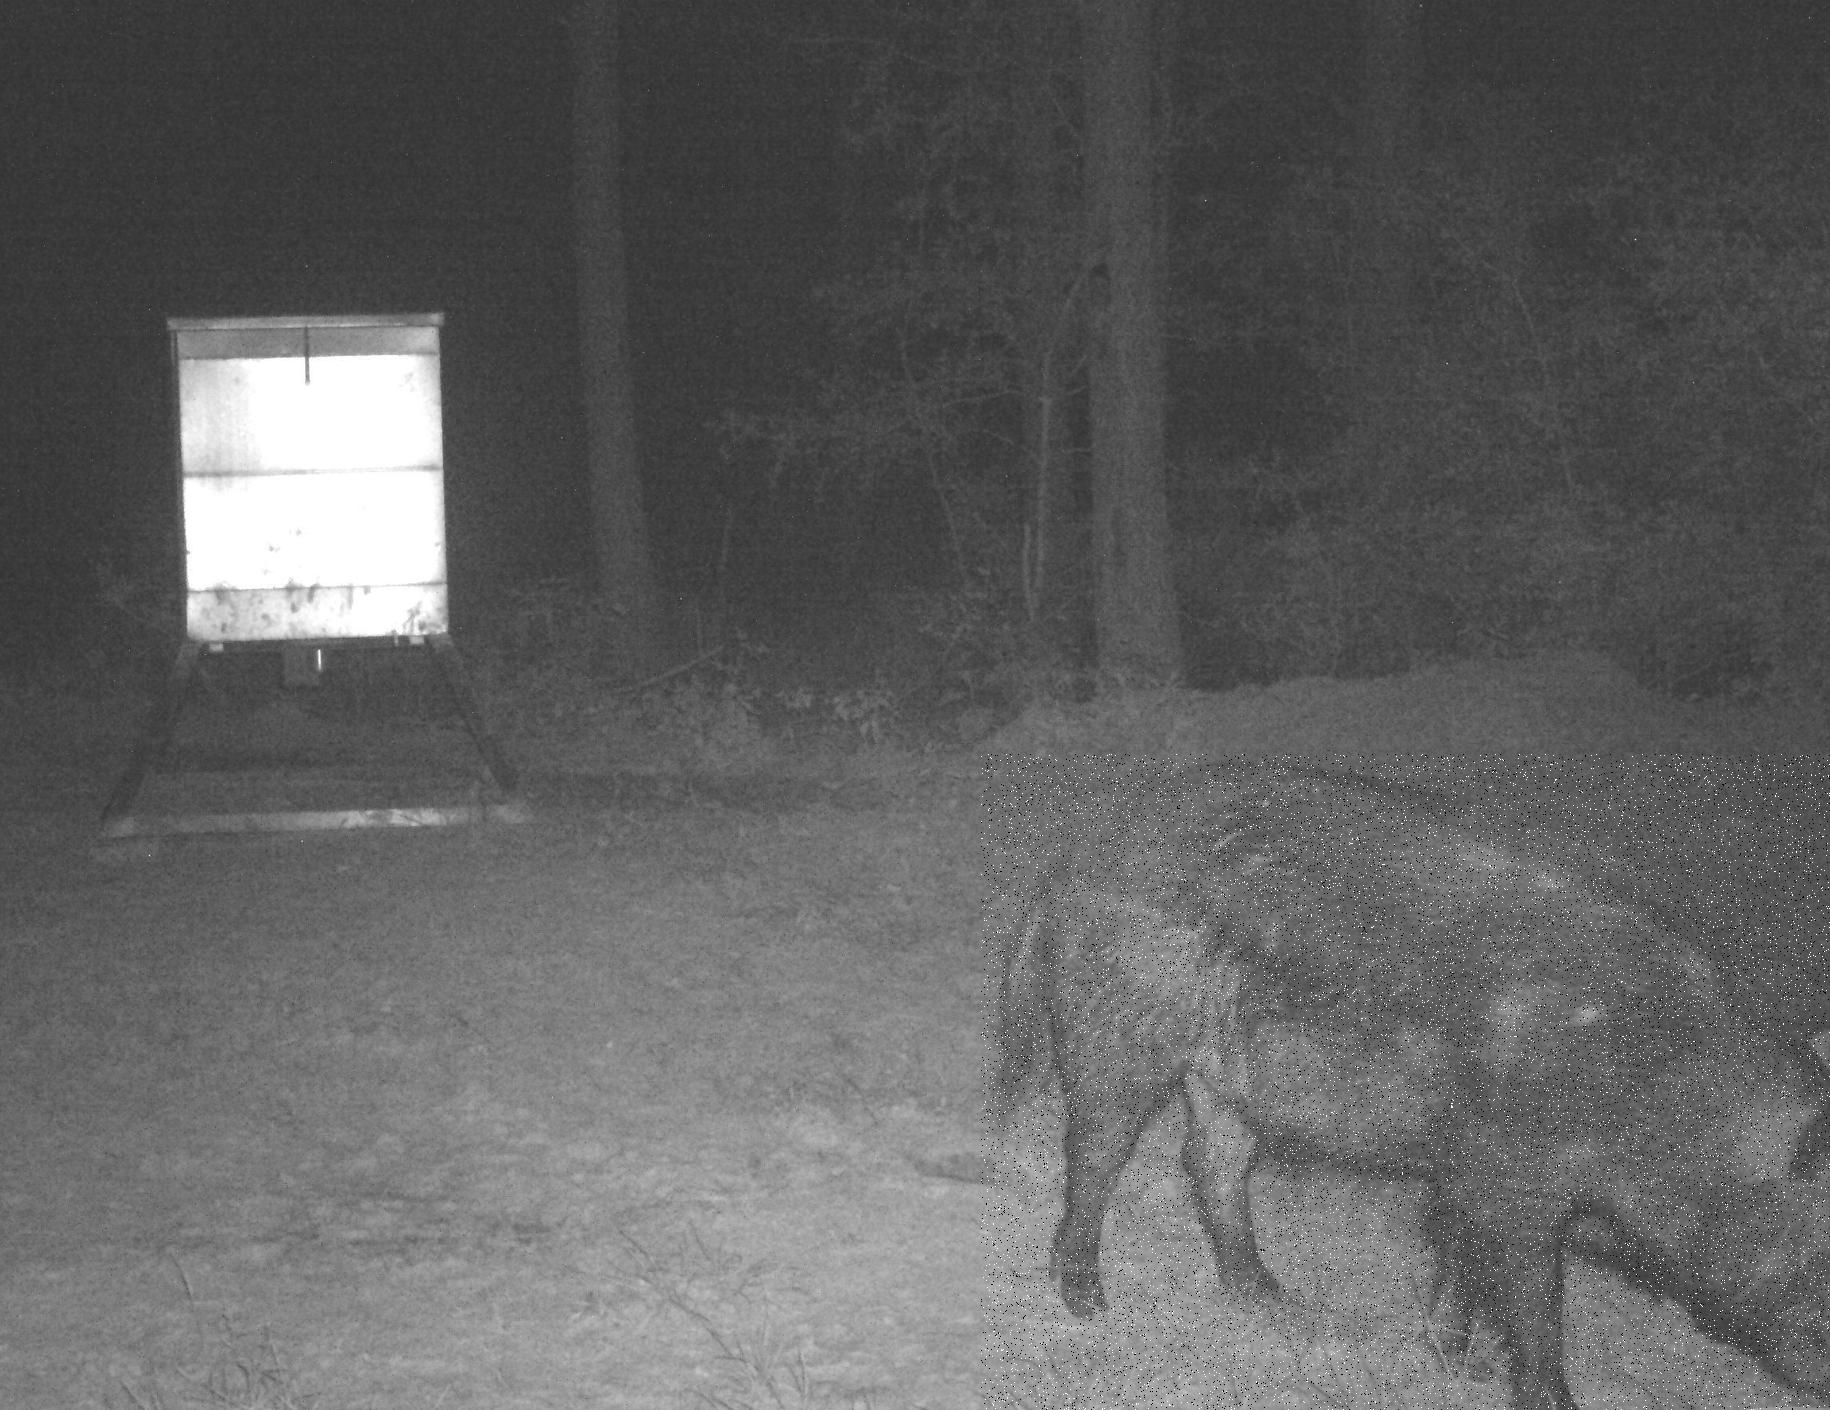Hog: (982, 754, 1830, 1410)
